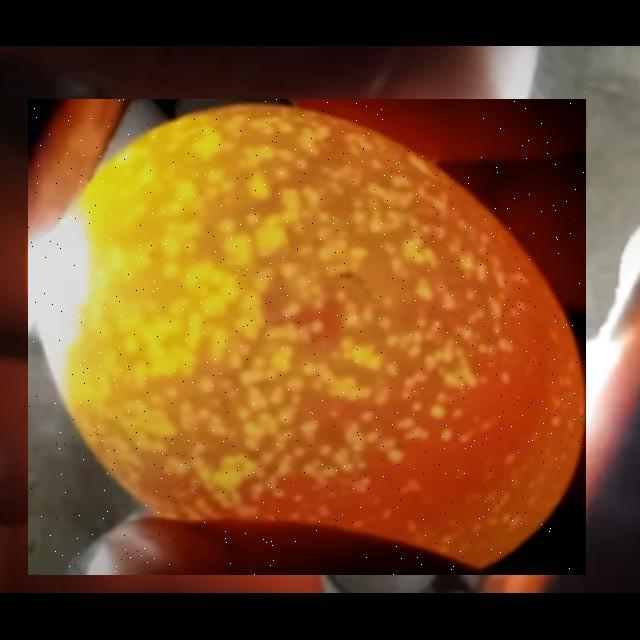Fertile: (28, 99, 586, 575)
